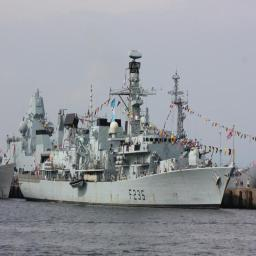Fragata: (19, 48, 240, 216)
